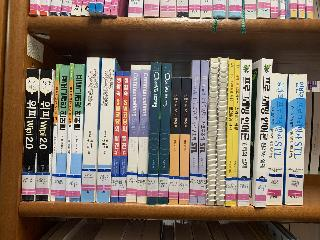book-spine: (81, 57, 101, 203), (266, 73, 288, 205), (285, 74, 307, 206), (96, 57, 115, 203), (255, 58, 273, 207), (65, 63, 84, 202), (51, 64, 70, 201), (22, 68, 40, 201), (36, 69, 53, 201), (237, 60, 252, 206), (157, 62, 172, 205), (126, 64, 141, 202), (147, 62, 161, 205), (137, 64, 151, 203), (197, 60, 210, 204), (189, 60, 201, 205), (110, 71, 123, 203), (179, 78, 192, 205), (169, 77, 181, 205), (119, 71, 130, 203), (225, 59, 234, 207), (231, 60, 240, 206)
